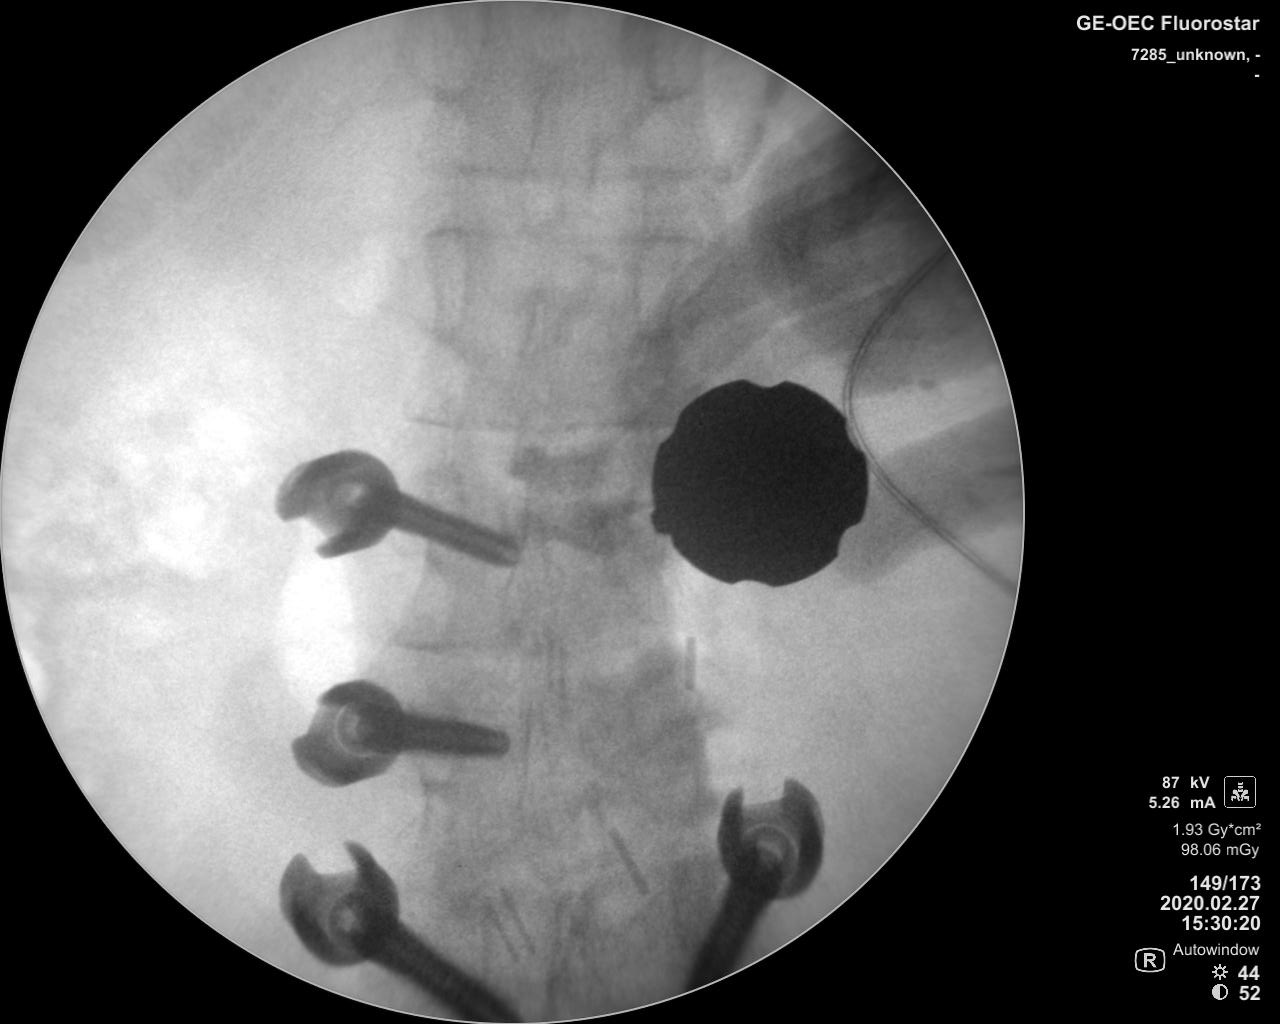eyes: (418, 5, 488, 97), (631, 230, 681, 340), (425, 225, 470, 342), (639, 37, 703, 102)
line: (434, 155, 711, 184), (427, 222, 705, 247), (399, 411, 671, 436)
nose: (501, 497, 558, 658), (519, 86, 565, 238), (511, 284, 555, 436)
